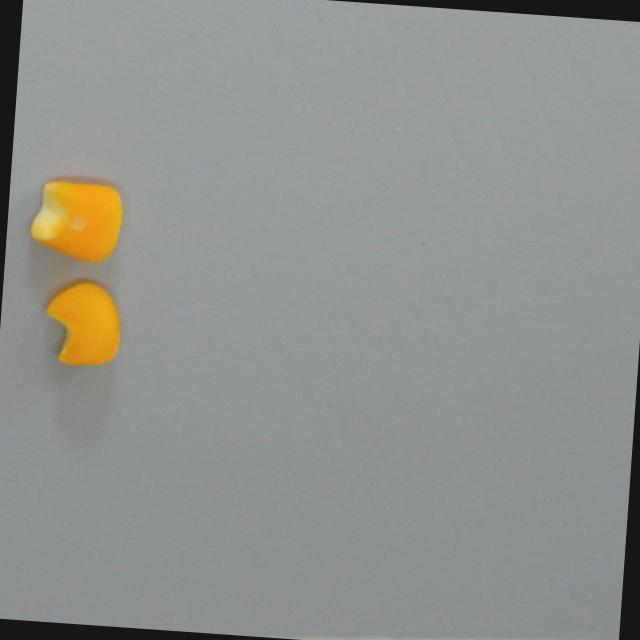no_canjicado: (41, 279, 125, 369)
pelicula: (26, 179, 125, 266)
